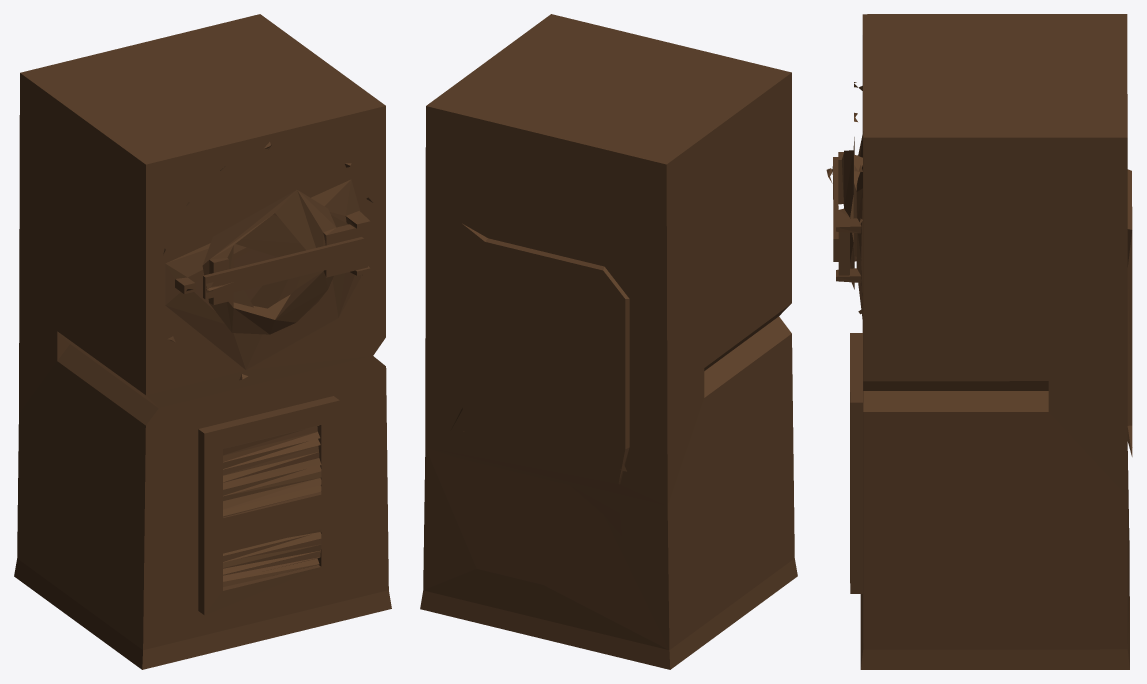
Rendered from laundry-machine.lod1.glb.
The picture shows the model from 3 angles, left to right: view 1: azimuth 30°, elevation 25°; view 2: azimuth 150°, elevation 25°; view 3: azimuth 270°, elevation 25°; orthographic projection. The views are drawn at different scales.
Parts seen in each view (by area): view 1: Latch_LP_UV grid_0; view 2: Latch_LP_UV grid_0; view 3: Latch_LP_UV grid_0.
Boxes of the visible parts, x1,y1,x2,y2 form: Latch_LP_UV grid_0: (14, 14, 391, 669); Latch_LP_UV grid_0: (420, 14, 797, 669); Latch_LP_UV grid_0: (826, 14, 1132, 669).
Bounding box in the file's own units: 1.04 × 2 × 1.05.
